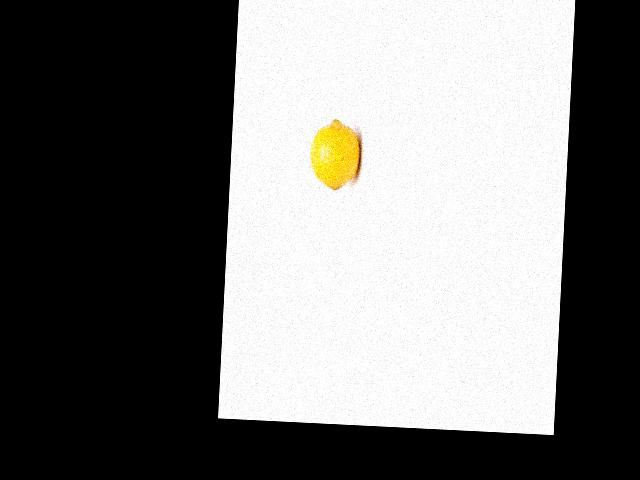lemon: (302, 113, 365, 191)
